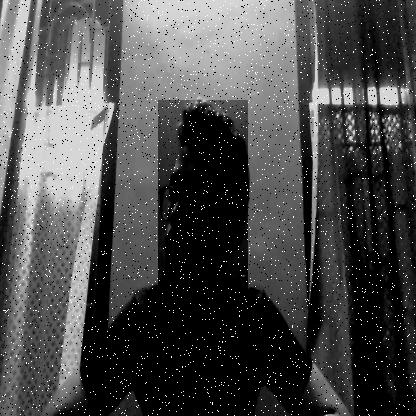Distracted: (158, 100, 248, 298)
